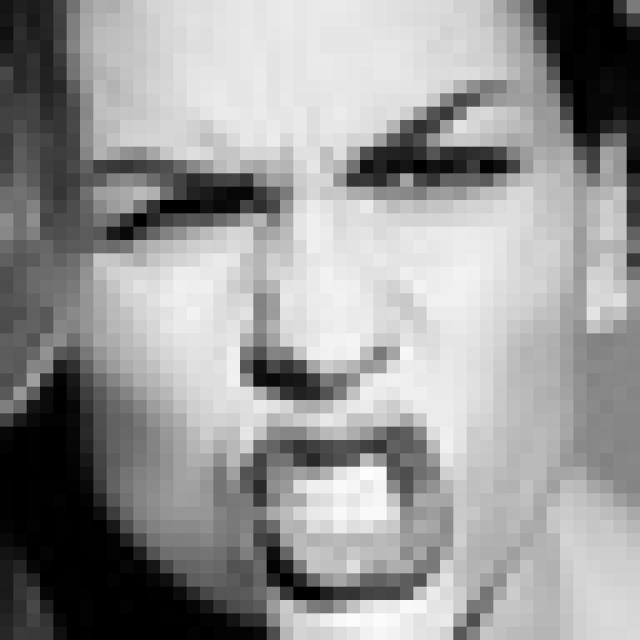angry: (80, 76, 526, 598)
